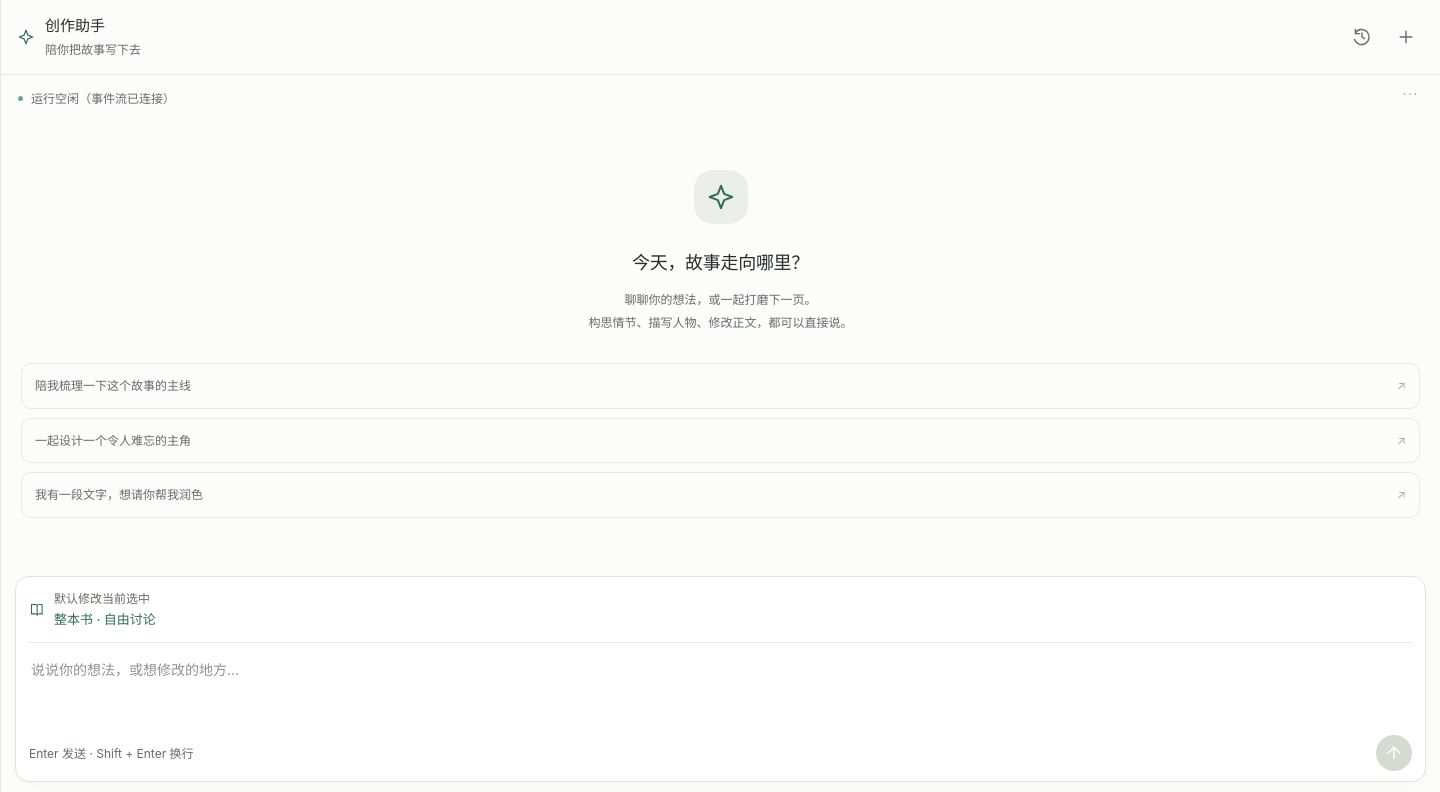
Test: AssistantPanel 草稿保留与在途修改 › send 抛错时保留草稿并给出可读提示
Type "会失败的原稿" into the text box named "消息输入" at (720, 692), box [29,656,1412,728]
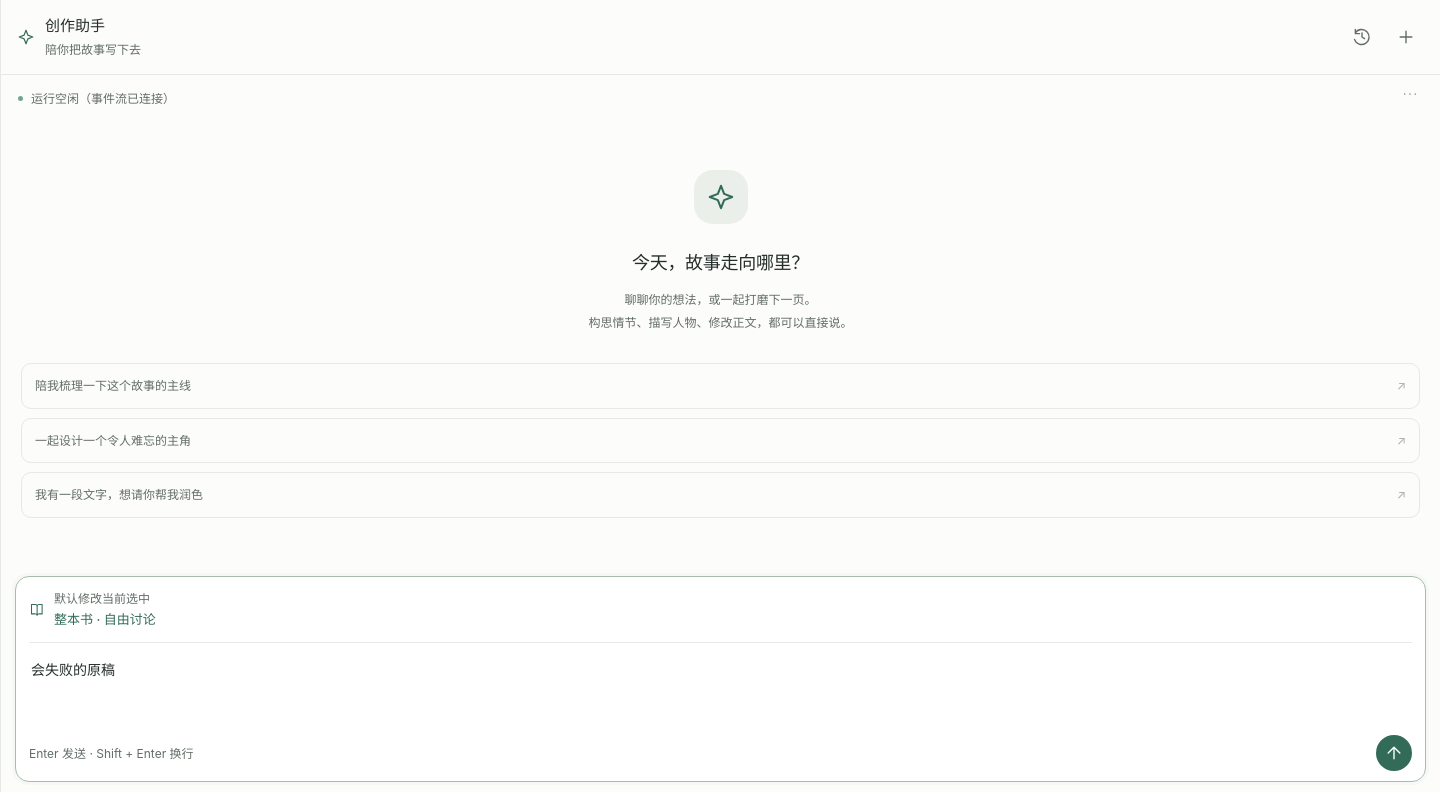
Press Enter
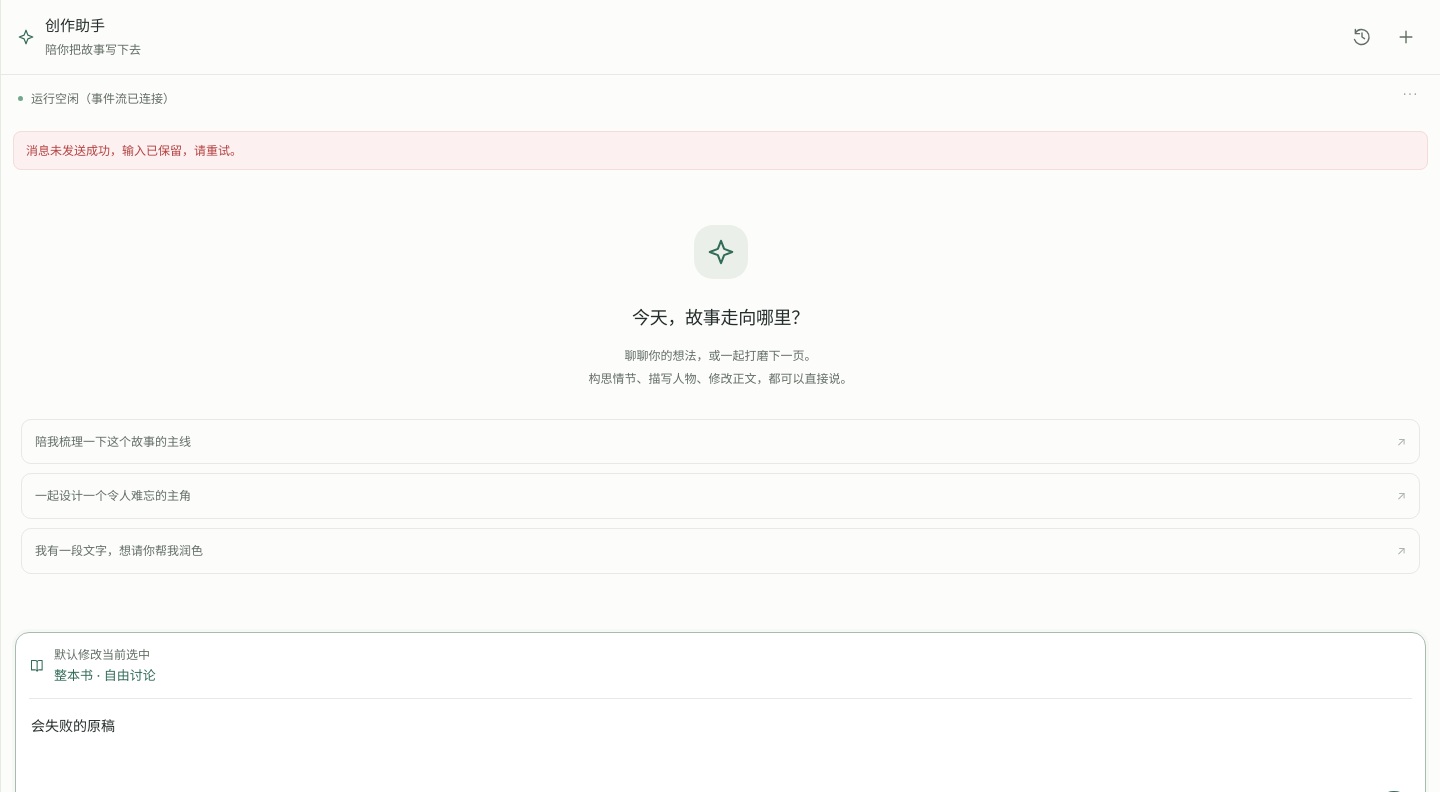
Expected: the text "消息未发送成功，输入已保留，请重试。" is shown, [26,142,242,158]
